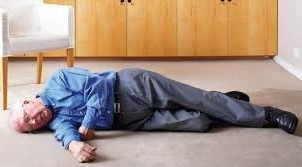fall: (11, 62, 299, 164)
